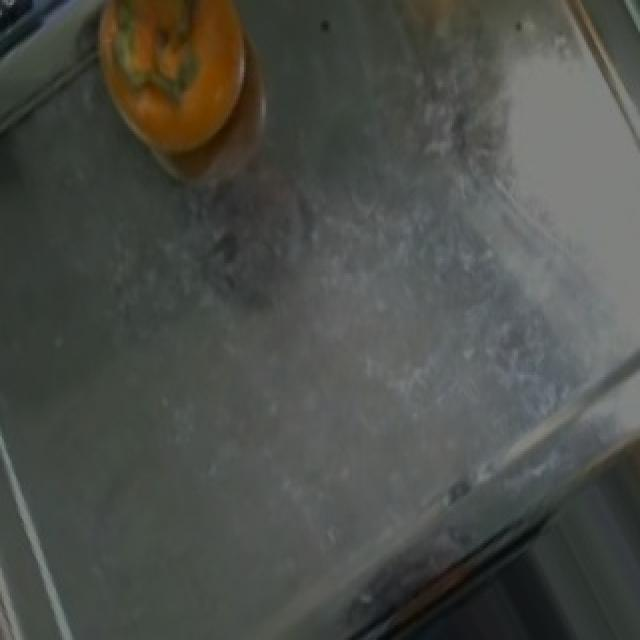Fruit: (74, 0, 272, 176)
